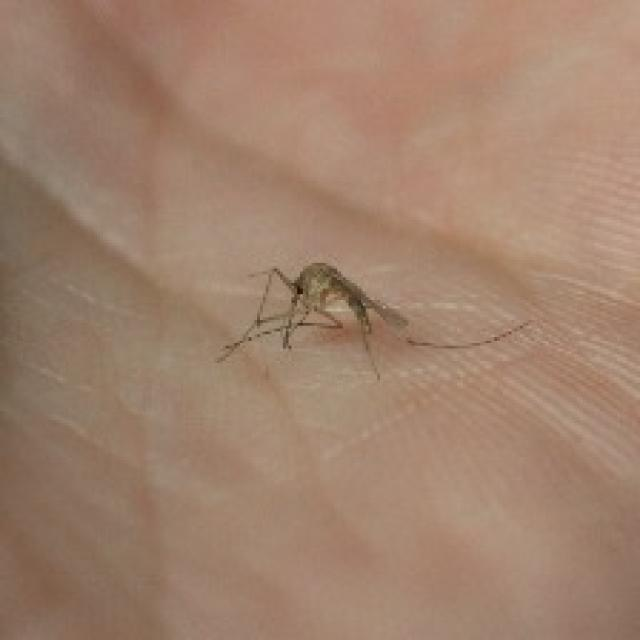culex: (212, 257, 532, 380)
